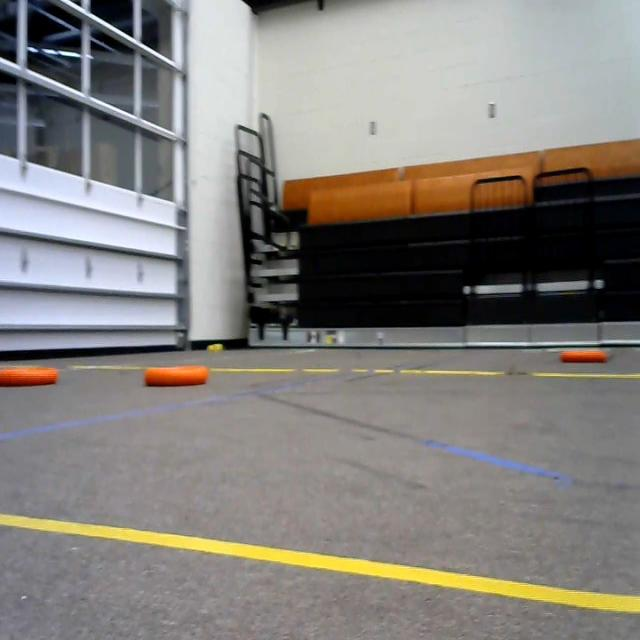note: (137, 363, 210, 396), (0, 358, 62, 390), (559, 349, 608, 370)
